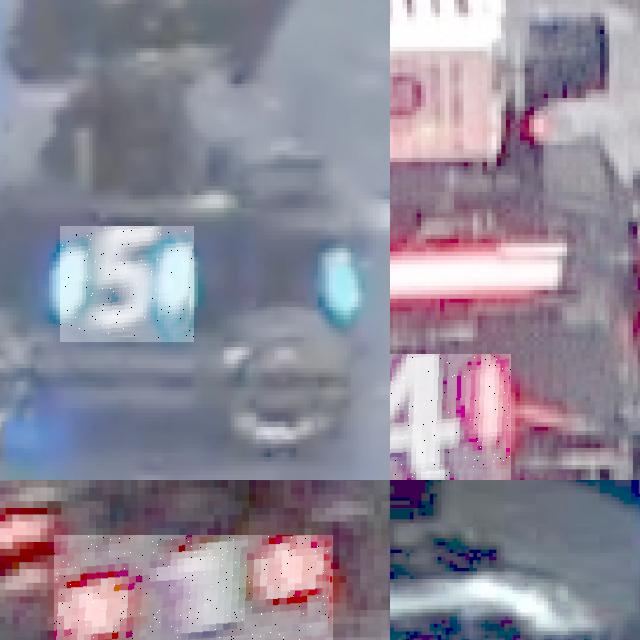B5: (60, 226, 194, 342)
R1: (54, 535, 332, 640)
R4: (390, 354, 510, 480)
